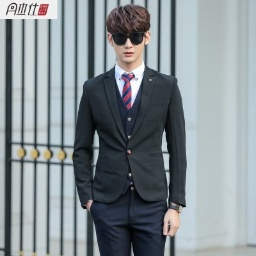face: (105, 4, 151, 64)
